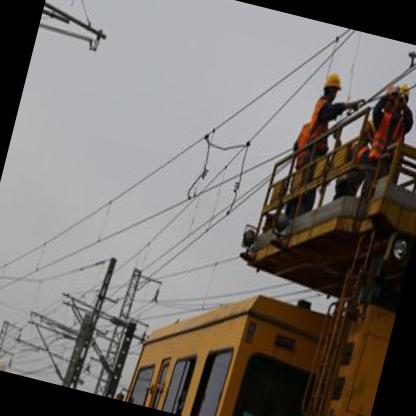bee: (317, 66, 347, 108)
